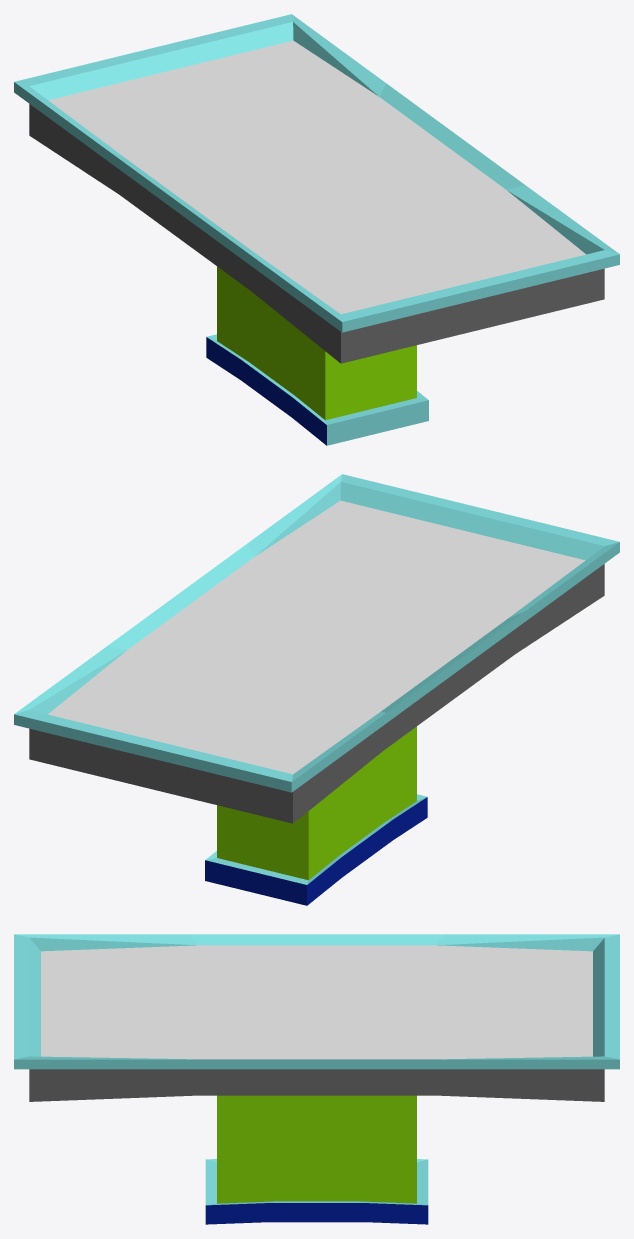
The model's file is Table_operation.fbx.
3 renders of one model, top to bottom at view 1: azimuth 30°, elevation 25°; view 2: azimuth 150°, elevation 25°; view 3: azimuth 270°, elevation 25°, orthographic. The views are drawn at different scales.
Parts seen in each view (by area): view 1: Cube; view 2: Cube; view 3: Cube.
Part boxes in pixels (x1=…): Cube: x1=14, y1=14, x2=619, y2=445; Cube: x1=14, y1=474, x2=619, y2=905; Cube: x1=14, y1=934, x2=619, y2=1224.
Bounding box in the file's own units: 83.07 × 63.25 × 170.
